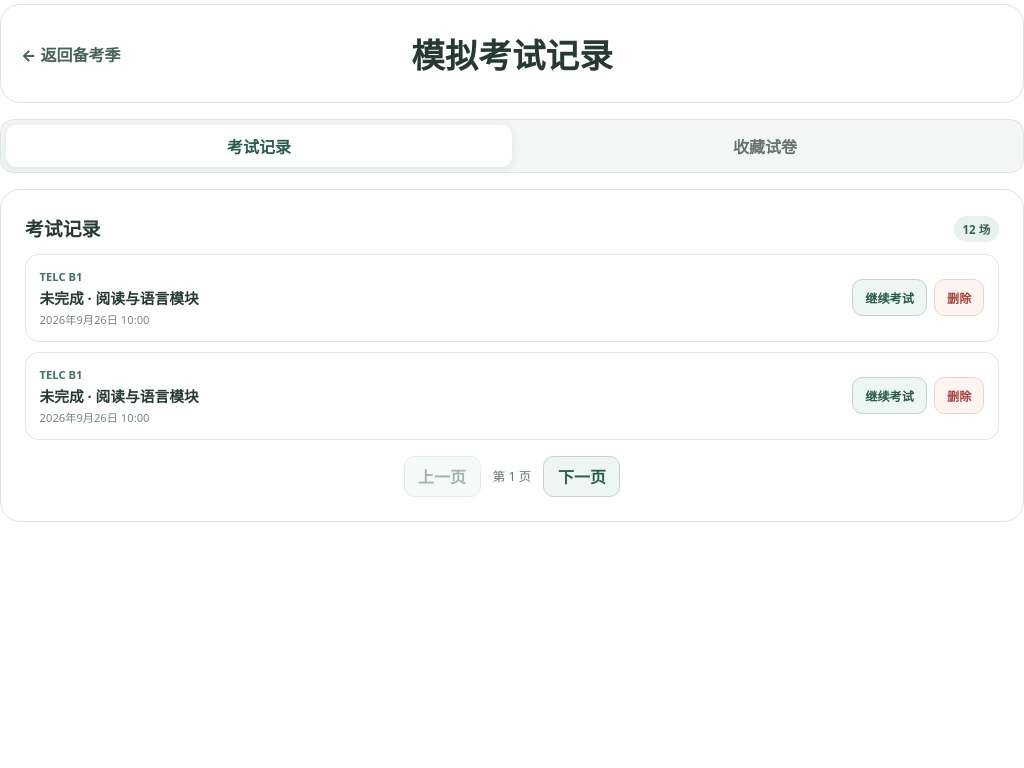
Test: mock exam records pagination › moves between history pages with previous and next buttons
Expected: the text "12 场" is shown, [954,216,999,242]
Expected: the button "上一页" is disabled, [404,456,481,497]
Click the button "下一页": (582, 476) [543,456,620,497]
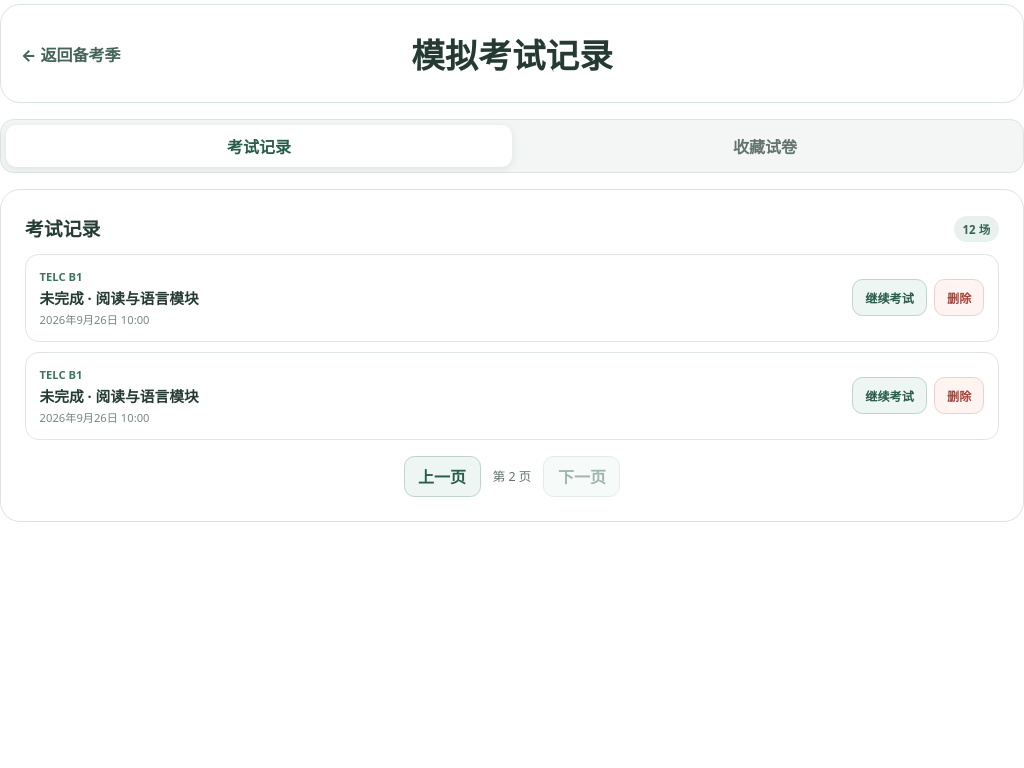
Result: the button "上一页" is enabled at [404,456,481,497]
Result: the button "下一页" is disabled at [543,456,620,497]
